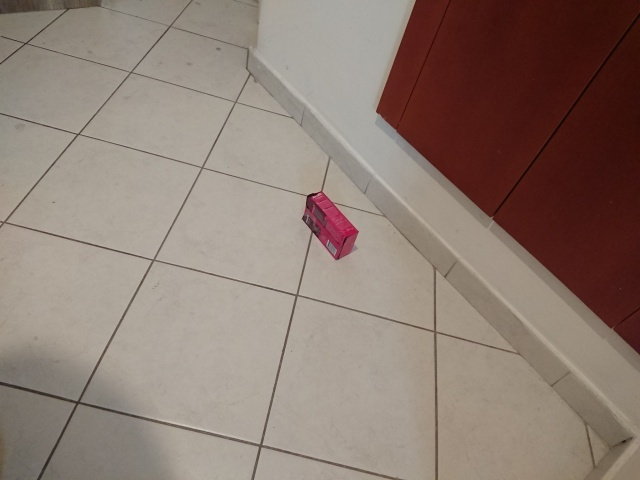Barcaffe Classic Original 225g: (300, 189, 361, 262)
